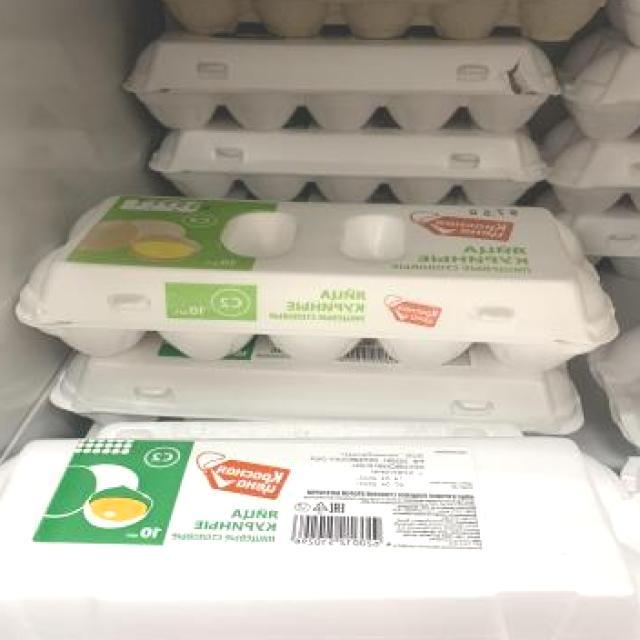egg: (0, 438, 640, 640), (9, 194, 618, 366), (147, 0, 622, 40)
